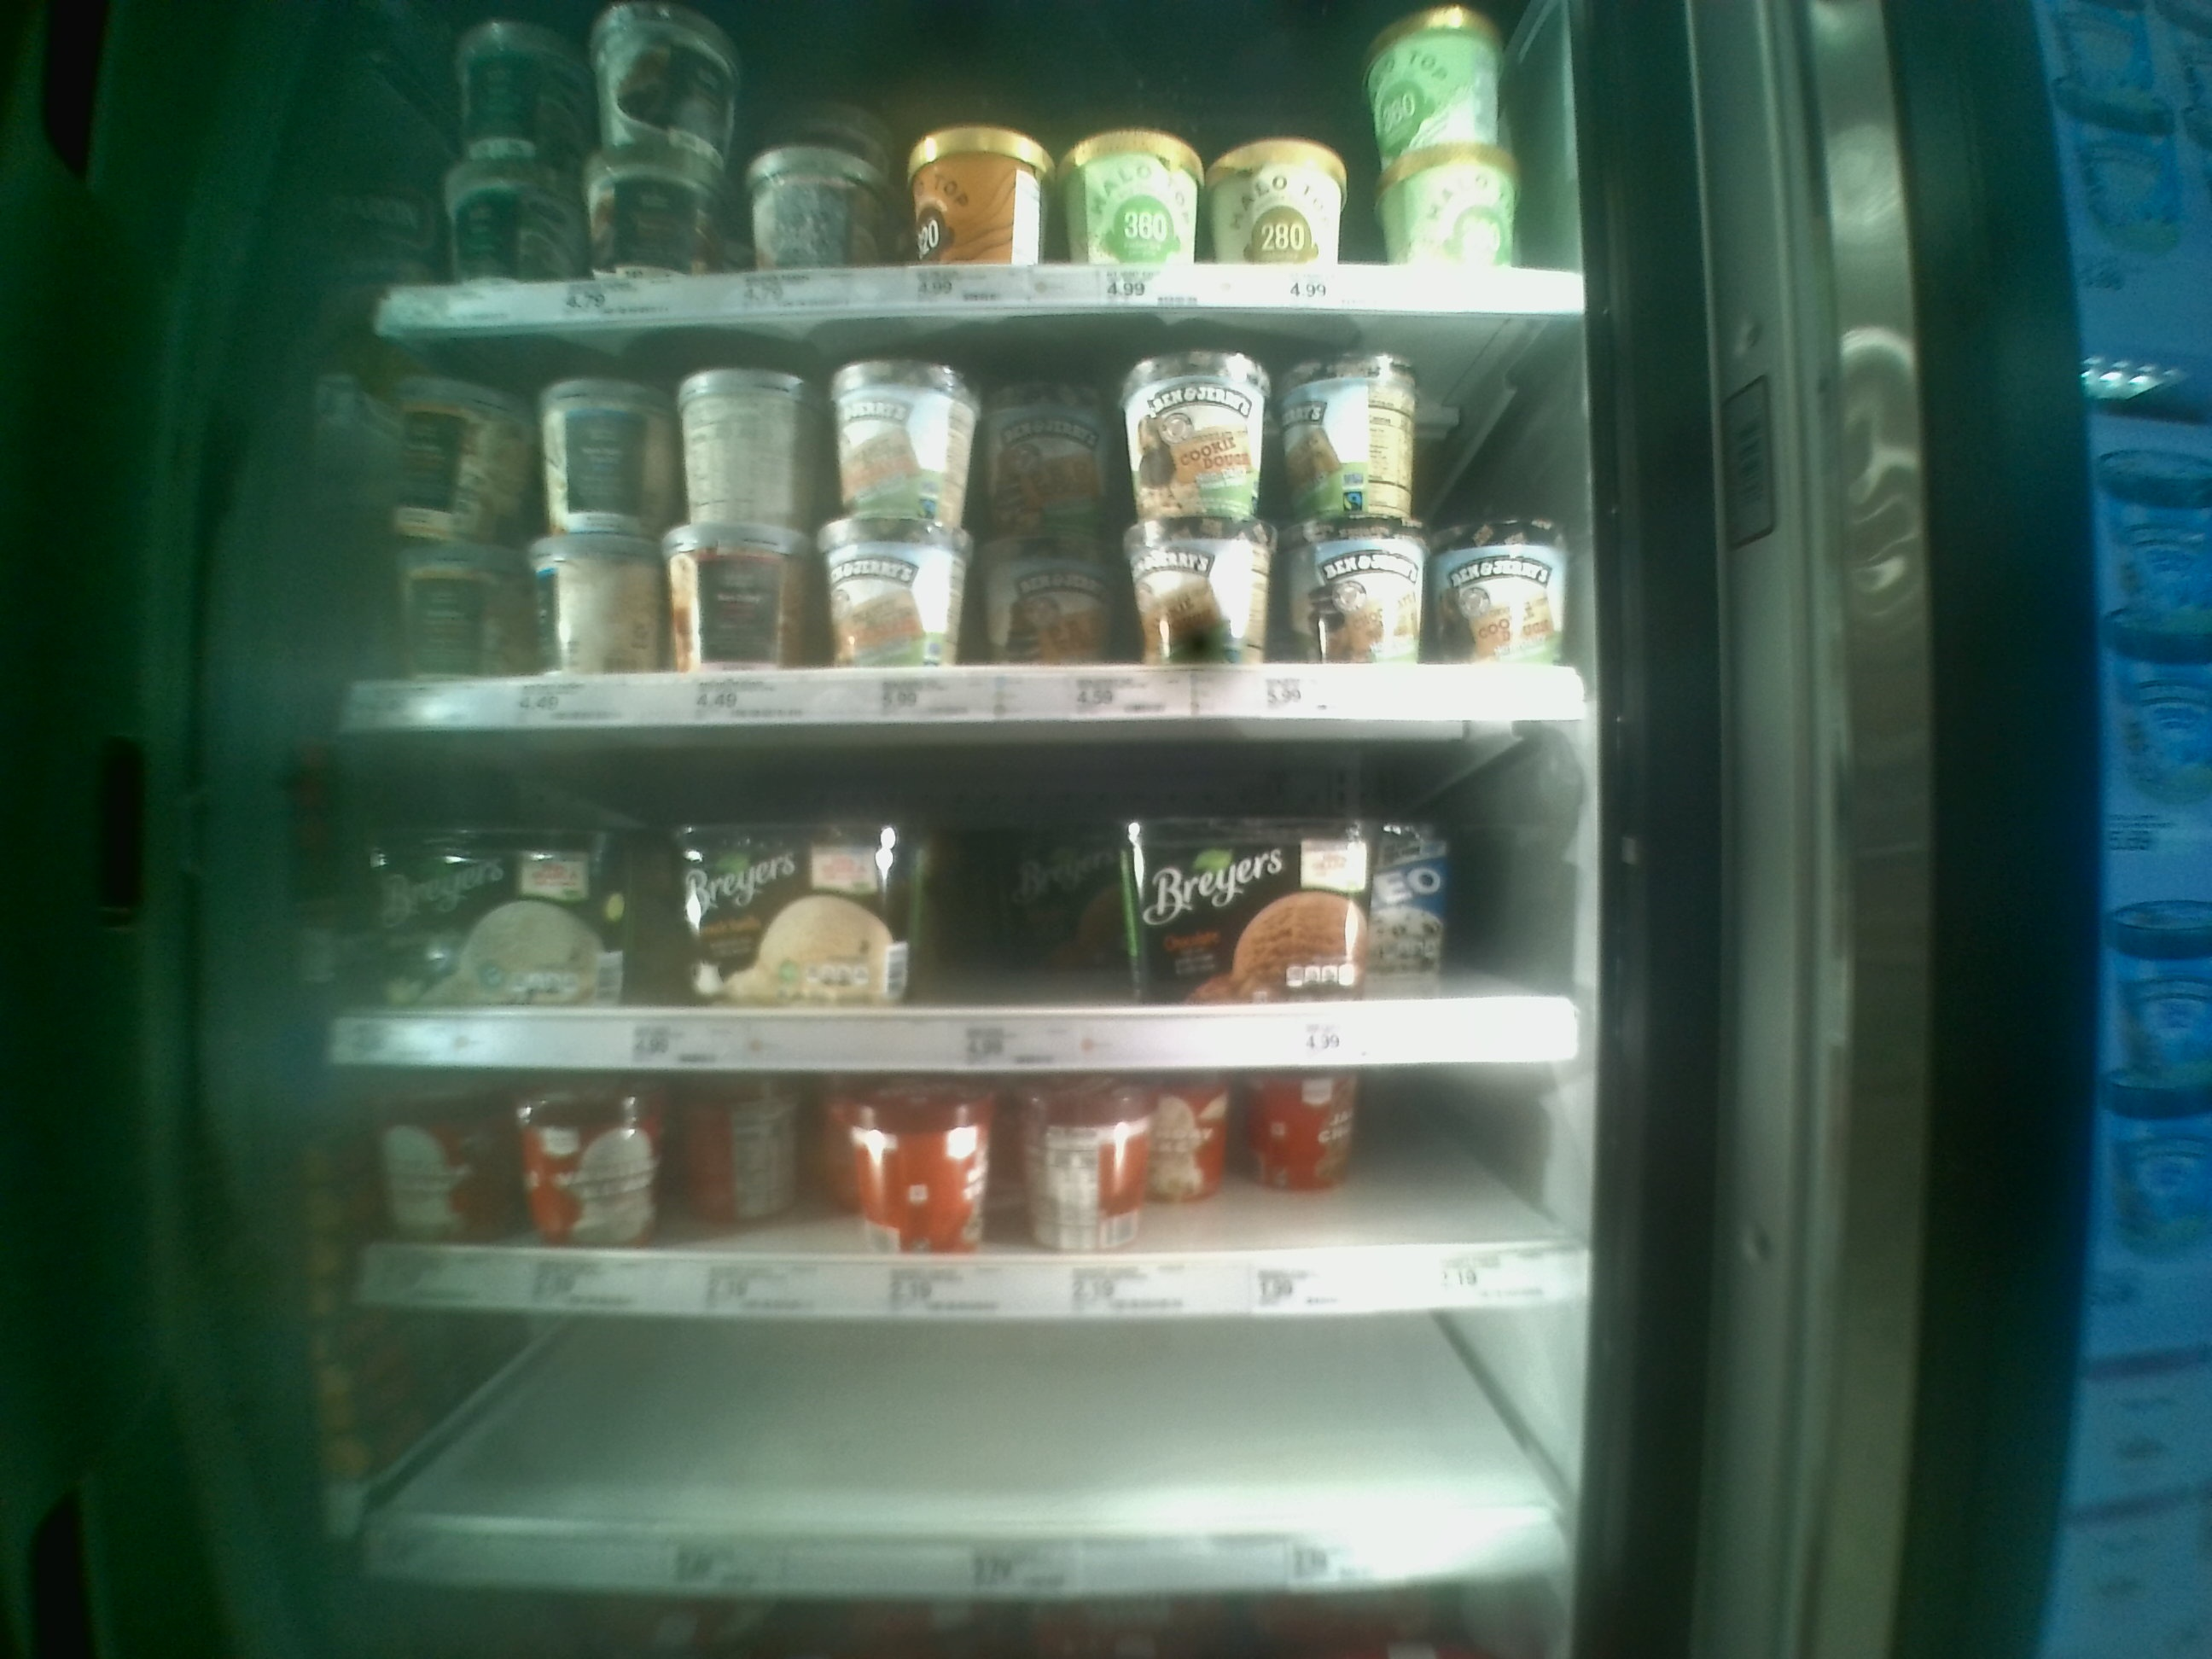ice-cream-shelf: (315, 312, 1588, 718), (314, 723, 1588, 1054)
